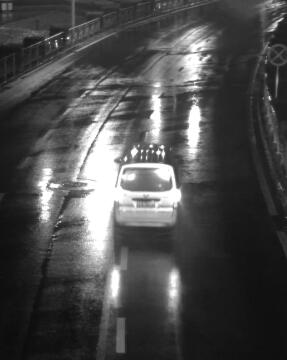car: (112, 161, 182, 231)
